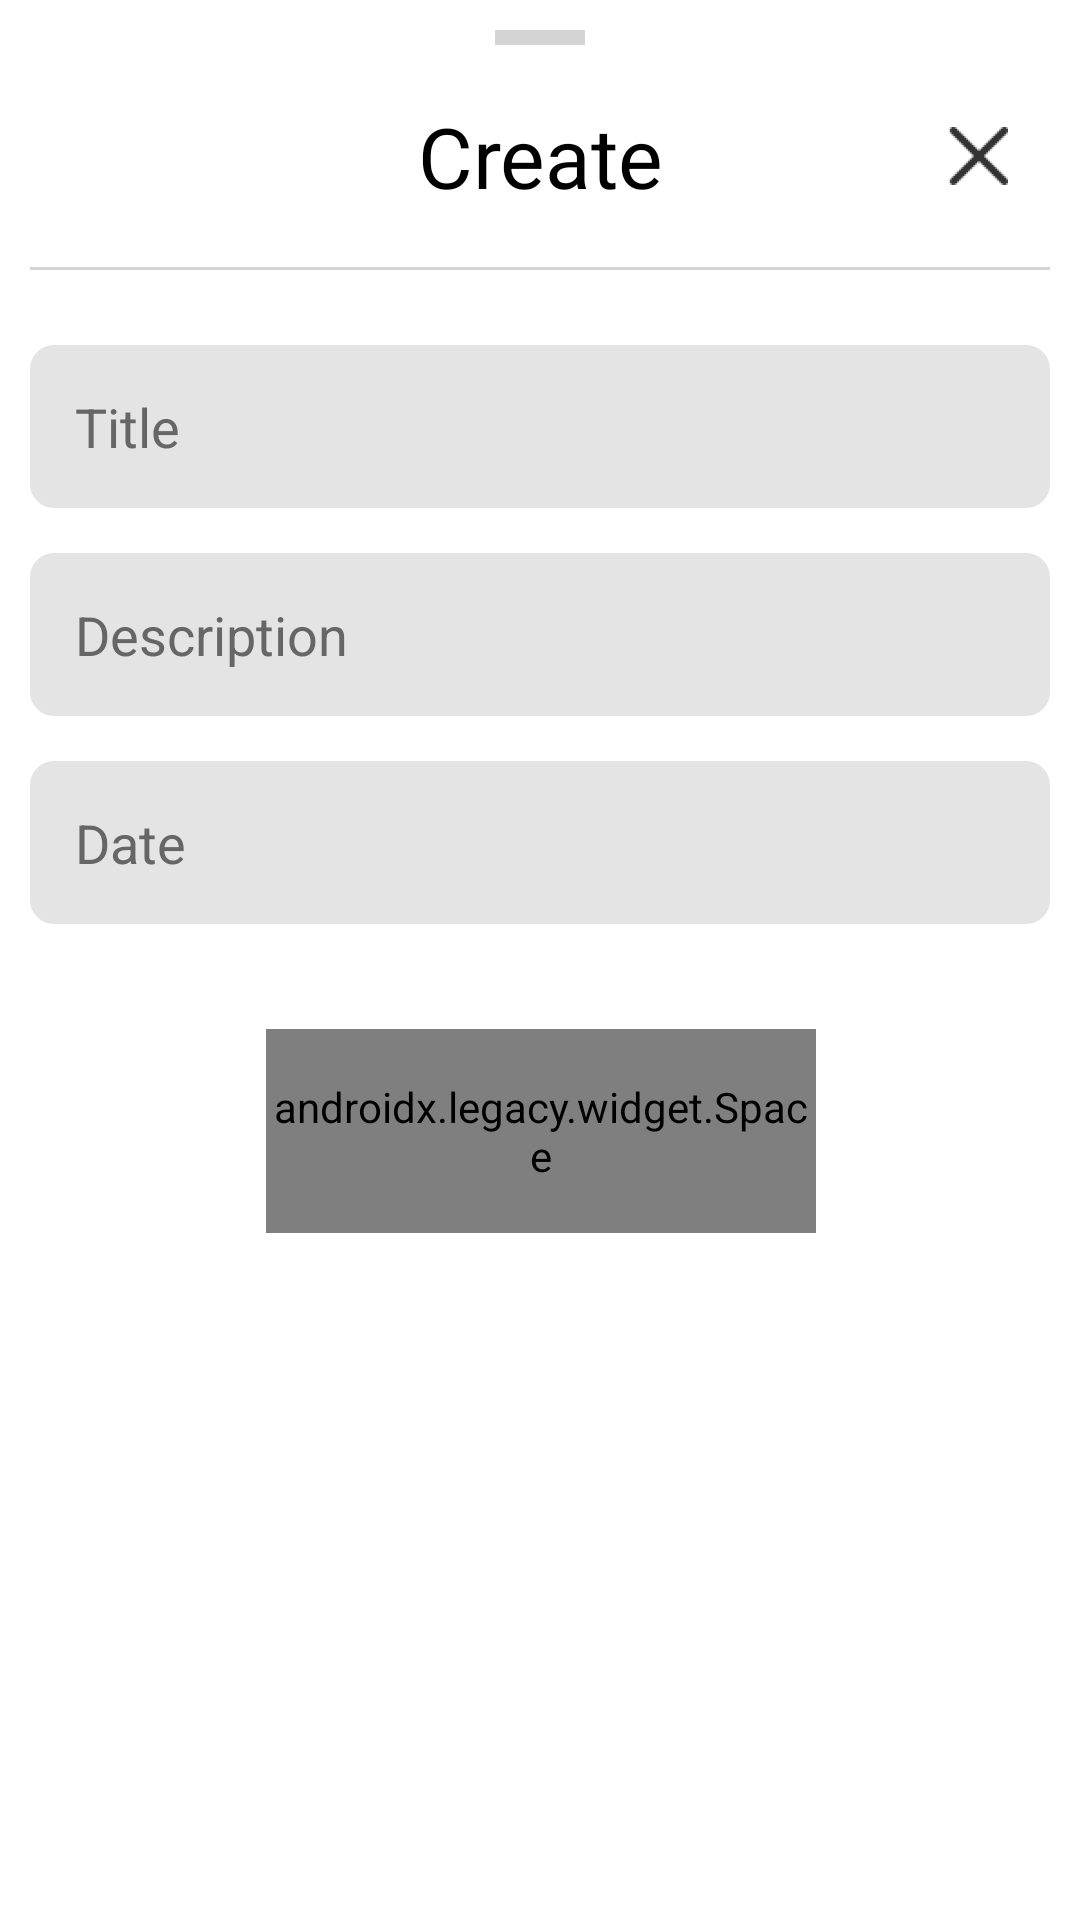

Where to tap for icons on this 1080w x 1920h app screen, as [x,y]:
close: [978,156]
